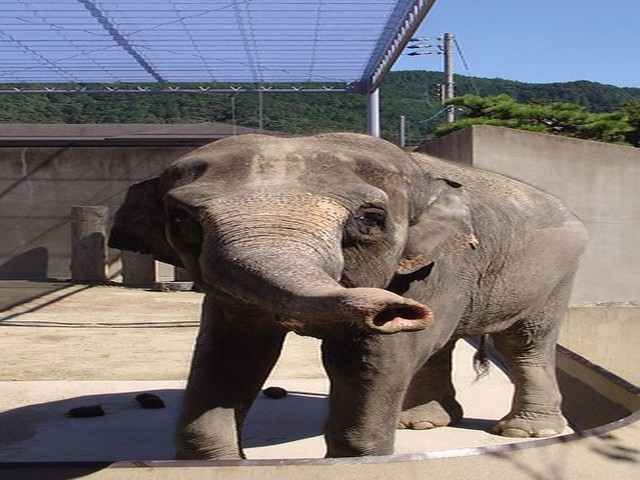Elephant: (103, 131, 606, 453)
